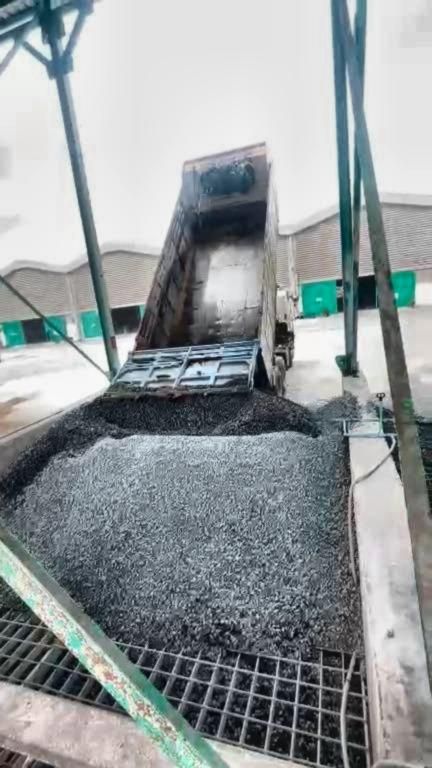gravel: (1, 360, 363, 651), (172, 249, 195, 345), (1, 576, 40, 622), (417, 414, 432, 511)
sand: (1, 398, 24, 437)
